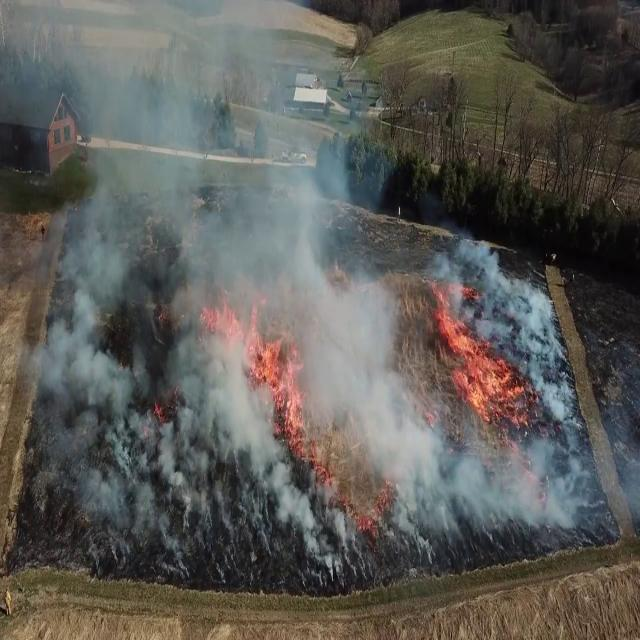Fire: (430, 286, 520, 422), (233, 306, 318, 448)
Smoke: (24, 7, 347, 579), (318, 223, 588, 540)
